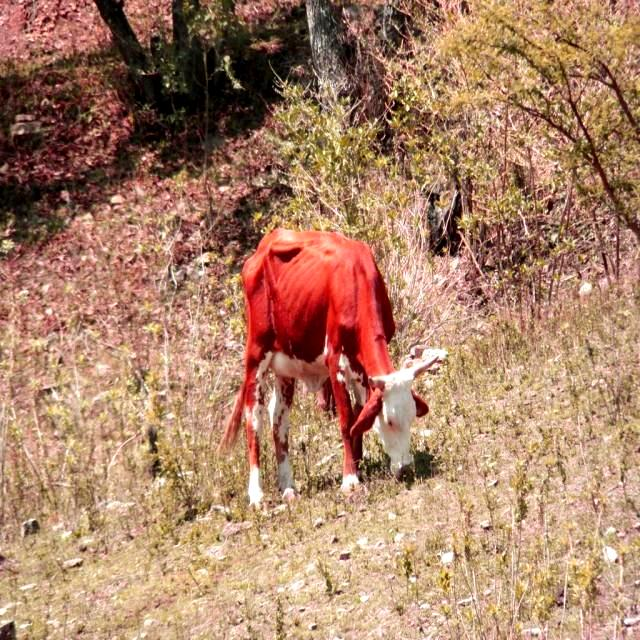COW: (222, 229, 445, 504)
